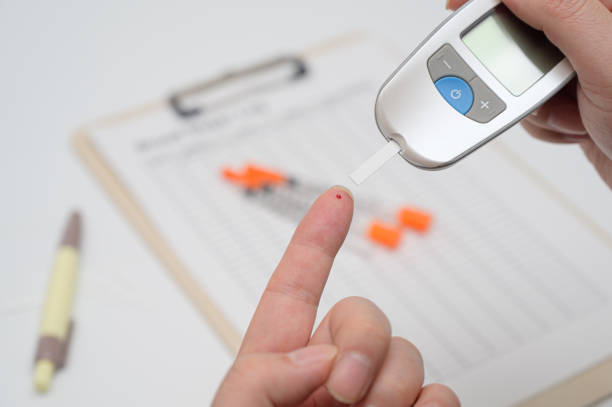blood: (336, 191, 342, 200)
